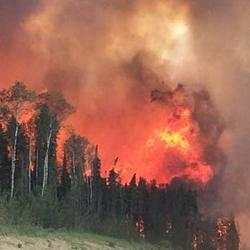fire: (133, 123, 196, 176)
